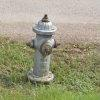a fire hydrant: (32, 16, 60, 77)
